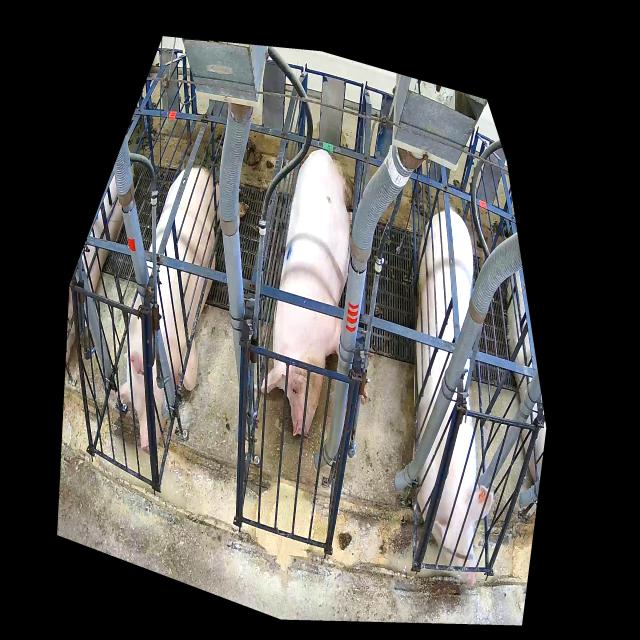pig: (115, 165, 249, 454), (412, 207, 494, 588), (254, 148, 354, 437)
